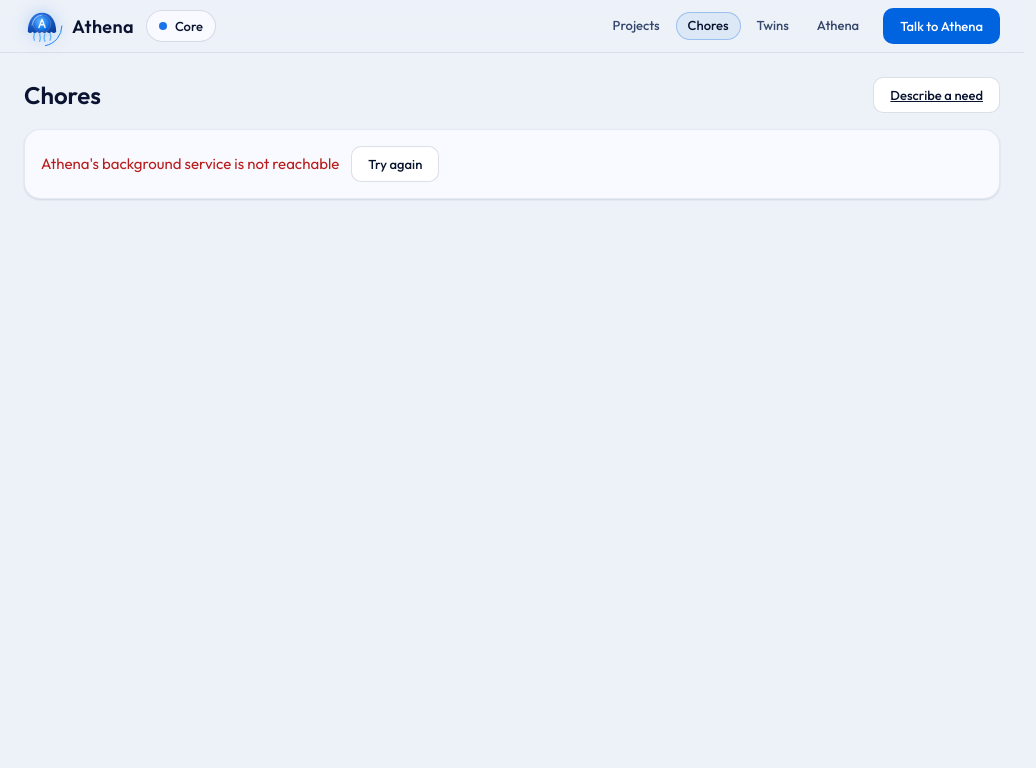
Test case: catalogue states › an error is one sentence with a retry that reads again
This screenshot has width=1036, height=768.
Expected: the message shows "Athena's background service is not reachable", x1=41 y1=154 x2=339 y2=173
Click the button "Try again" at (395, 164), box x1=351 y1=146 x2=439 y2=182
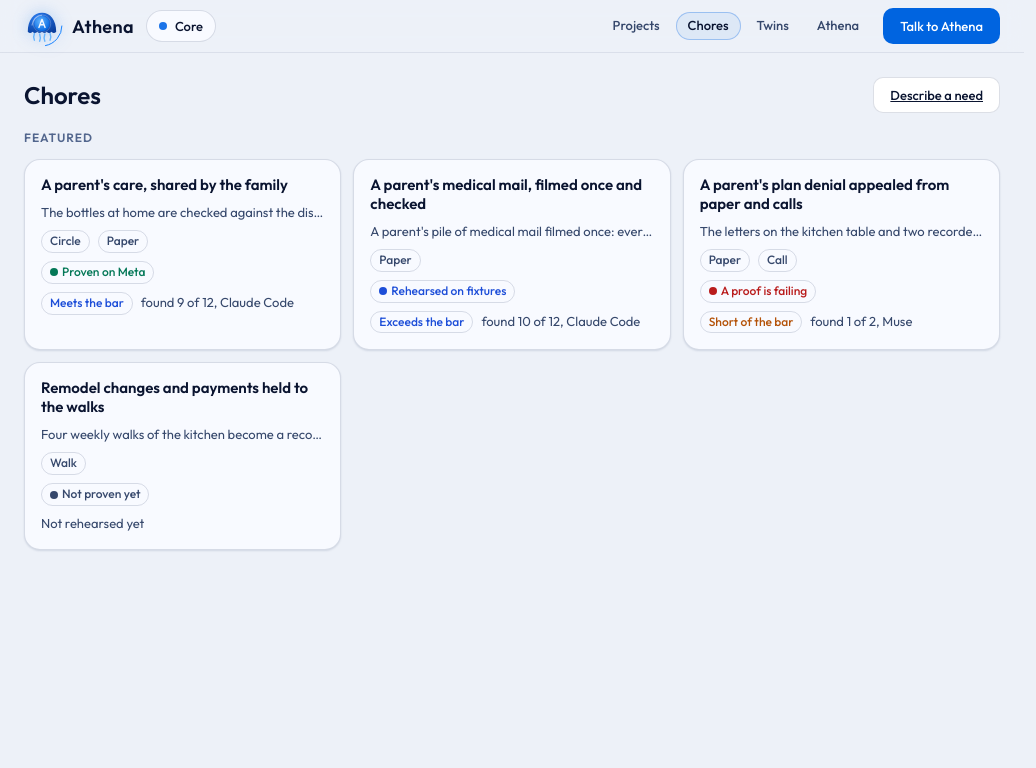
Now the message "Athena's background service is not reachable Try again" is gone
Now the text "Proven on Meta" is shown, box x1=41 y1=261 x2=154 y2=284
